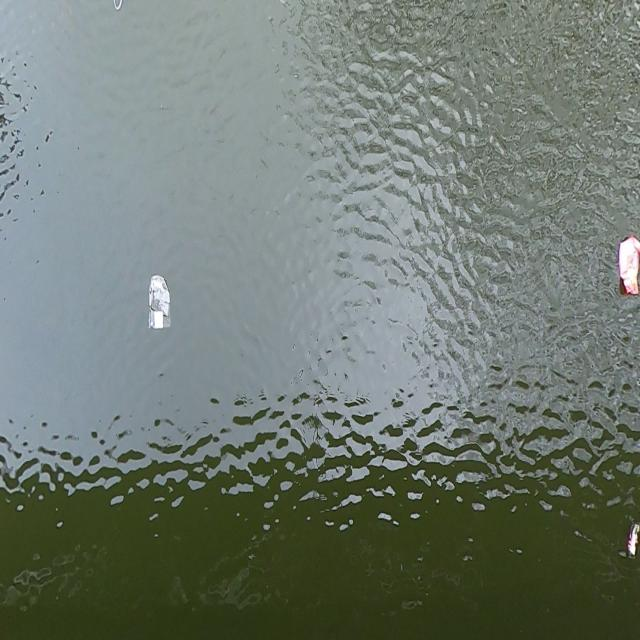Autre plastique: (619, 237, 640, 293)
Non plastique: (628, 525, 640, 555)
Sac plastique: (150, 275, 169, 329)
